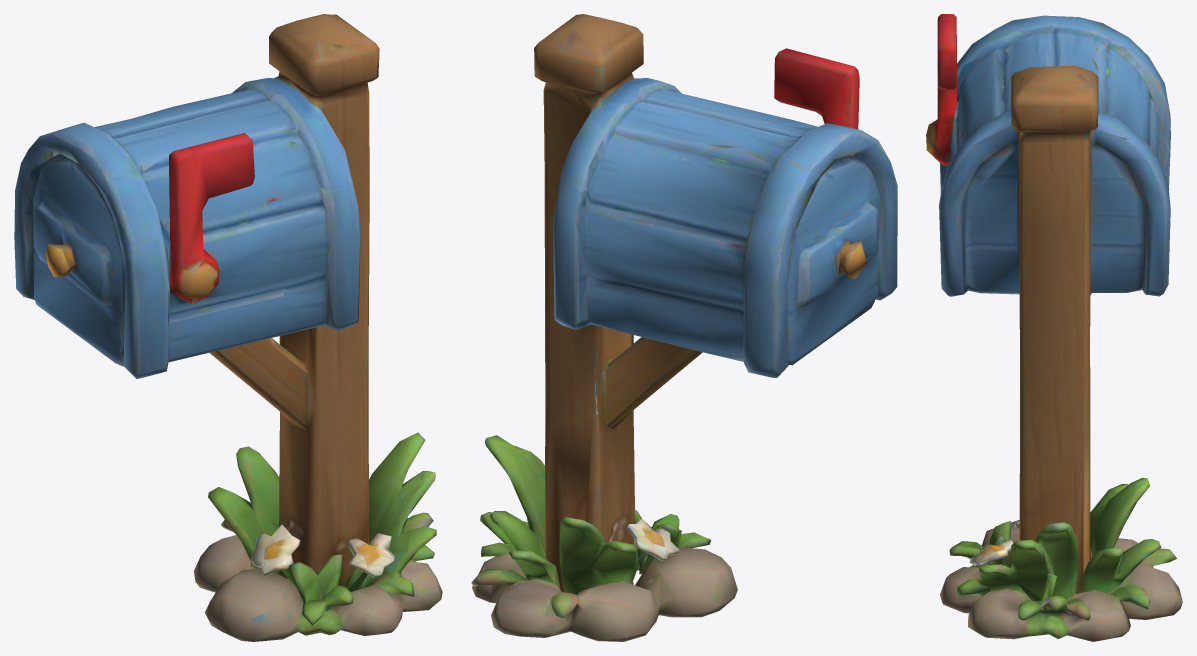
3 renders of one model, left to right at view 1: azimuth 30°, elevation 25°; view 2: azimuth 150°, elevation 25°; view 3: azimuth 270°, elevation 25°, orthographic. The views are drawn at different scales.
Visible parts, largest first — view 1: mailbox; view 2: mailbox; view 3: mailbox.
Boxes of the visible parts, x1,y1,x2,y2 form: mailbox: [14, 14, 442, 641]; mailbox: [471, 14, 897, 641]; mailbox: [926, 14, 1182, 641].
Bounding box in the file's own units: 0.8438 × 1.2 × 0.5241.
Materials: 1 (1 with a texture image).
